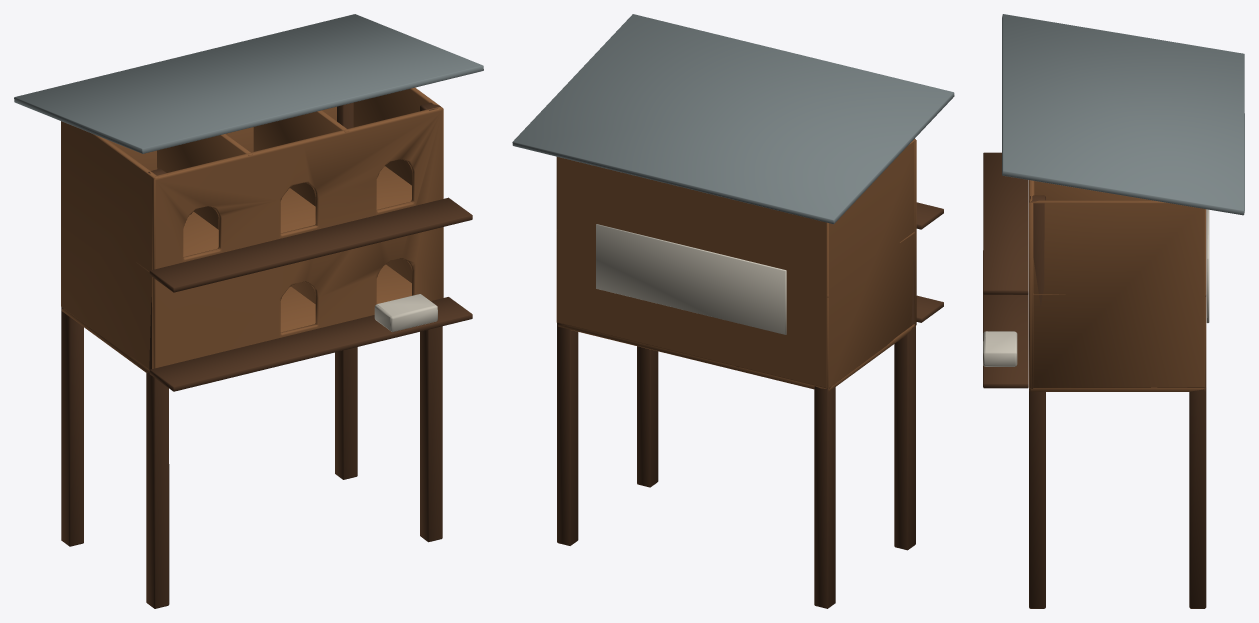
Rendered from chuong_bo_cau_game.glb.
3 renders of one model, left to right at view 1: azimuth 30°, elevation 25°; view 2: azimuth 150°, elevation 25°; view 3: azimuth 270°, elevation 25°, orthographic. The views are drawn at different scales.
Visible parts, largest first — view 1: chuong_bo_cau_game; view 2: chuong_bo_cau_game; view 3: chuong_bo_cau_game.
Boxes of the visible parts, x1=… form: chuong_bo_cau_game: x1=14, y1=14, x2=483, y2=608; chuong_bo_cau_game: x1=512, y1=14, x2=954, y2=608; chuong_bo_cau_game: x1=983, y1=14, x2=1244, y2=608.
Size of the model in its own units: 1.3 by 1.74 by 0.9135.
